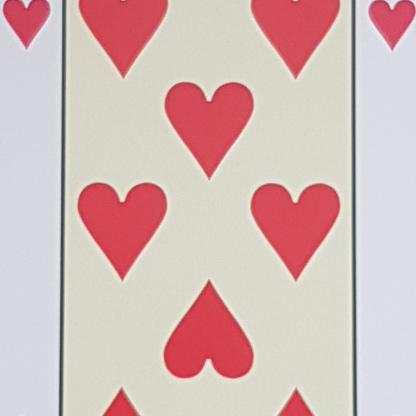8h: (0, 0, 69, 63), (353, 0, 415, 70)
